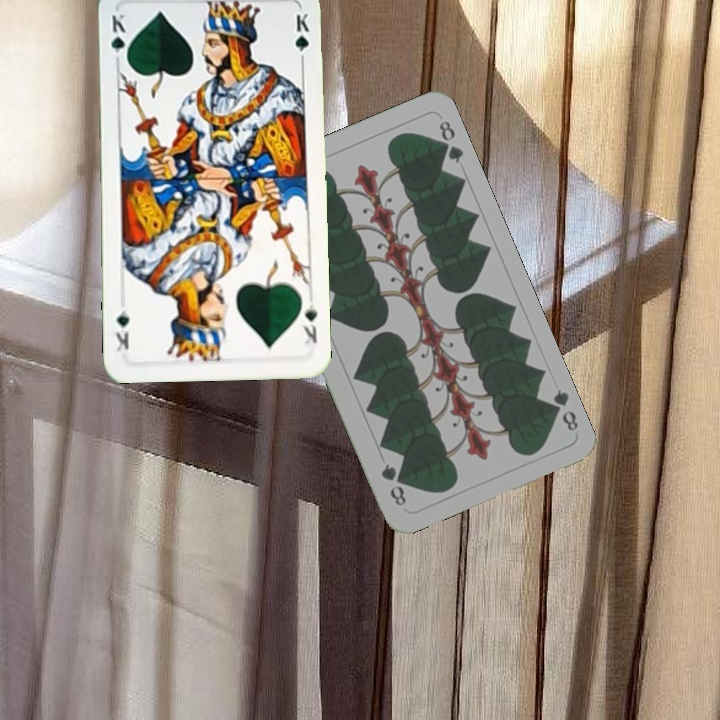G8: (543, 384, 581, 434)
GK: (106, 10, 130, 67), (298, 300, 320, 347)
